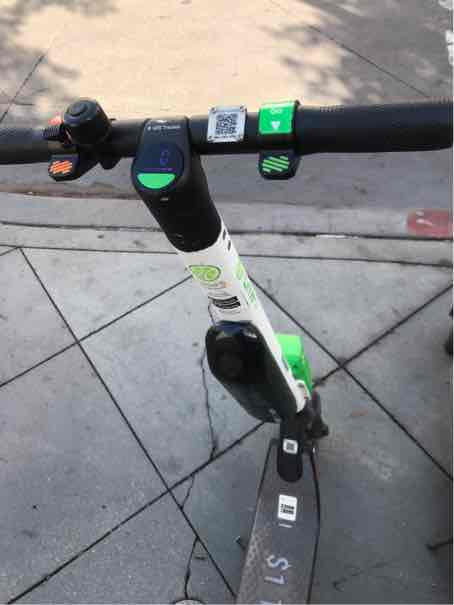scooter: (6, 72, 374, 605)
